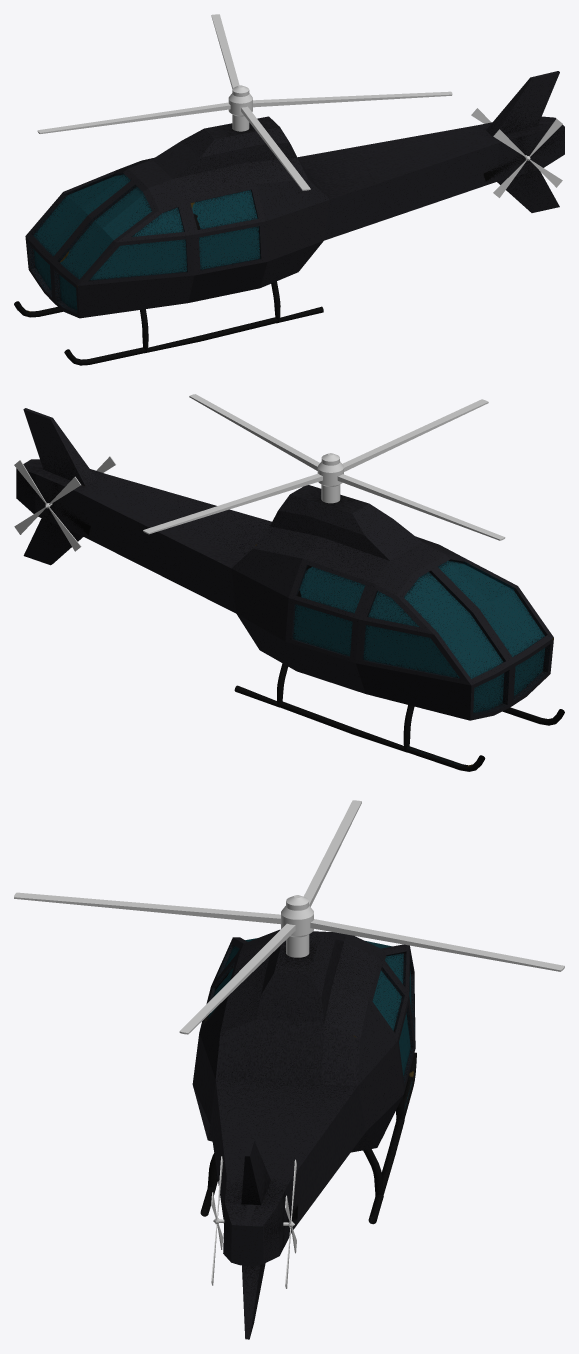
Rendered from anim_000194.obj.
3 views of the same model, one above another, from view 1: azimuth 30°, elevation 25°; view 2: azimuth 150°, elevation 25°; view 3: azimuth 270°, elevation 25° (orthographic). The views are drawn at different scales.
Visible parts, largest first — view 1: Helicopter.007_Cylinder.008, Helicopter.001_Cylinder.001, Helicopter.003_Cylinder.004; view 2: Helicopter.007_Cylinder.008, Helicopter.001_Cylinder.001, Helicopter.004_Cylinder.005; view 3: Helicopter.007_Cylinder.008, Helicopter.001_Cylinder.001.
Part boxes in pixels (bbox=[...]): Helicopter.007_Cylinder.008: bbox=[14, 71, 564, 365]; Helicopter.001_Cylinder.001: bbox=[37, 14, 452, 190]; Helicopter.003_Cylinder.004: bbox=[493, 119, 562, 197]; Helicopter.007_Cylinder.008: bbox=[16, 408, 564, 771]; Helicopter.001_Cylinder.001: bbox=[143, 394, 505, 540]; Helicopter.004_Cylinder.005: bbox=[14, 460, 81, 551]; Helicopter.007_Cylinder.008: bbox=[192, 929, 416, 1339]; Helicopter.001_Cylinder.001: bbox=[14, 800, 564, 1034].
Size of the model in its own units: 7.55 by 3.21 by 5.33.
